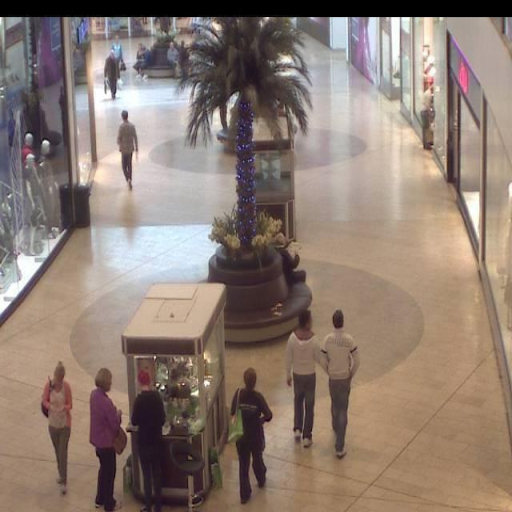person: (227, 365, 273, 500), (321, 309, 358, 457), (89, 365, 126, 512), (130, 370, 166, 509), (39, 360, 76, 493), (287, 309, 319, 447), (114, 112, 141, 191), (103, 50, 121, 102), (112, 37, 126, 80), (165, 40, 180, 77), (135, 45, 150, 76)
